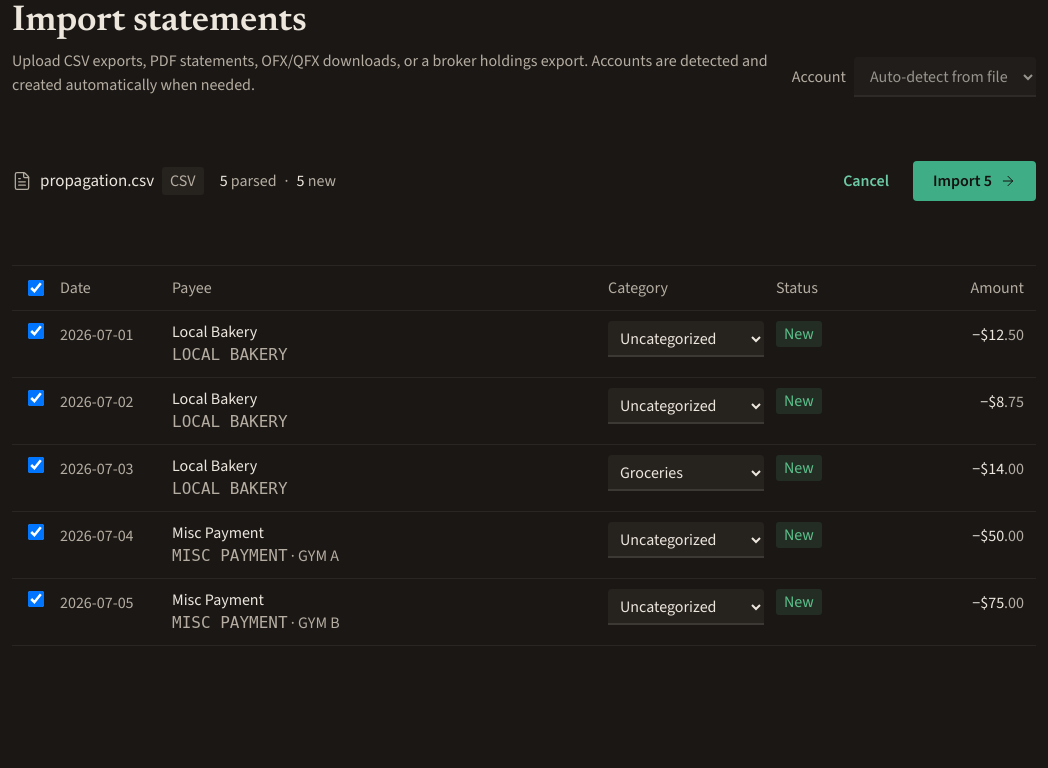
Test: IngestionWorkspace Auto-Account Creation › propagates a manual category change to identical uncategorized rows without clobbering generic payees or categorized rows
The width and height of the screenshot is (1048, 768).
Earlier steps of the test are not shown.
Later steps or results of the test are not shown.
Step 1. Select "Restaurants" in the dropdown named "Category" in the row of "−$12" → point(686, 339), box x1=608 y1=321 x2=764 y2=357
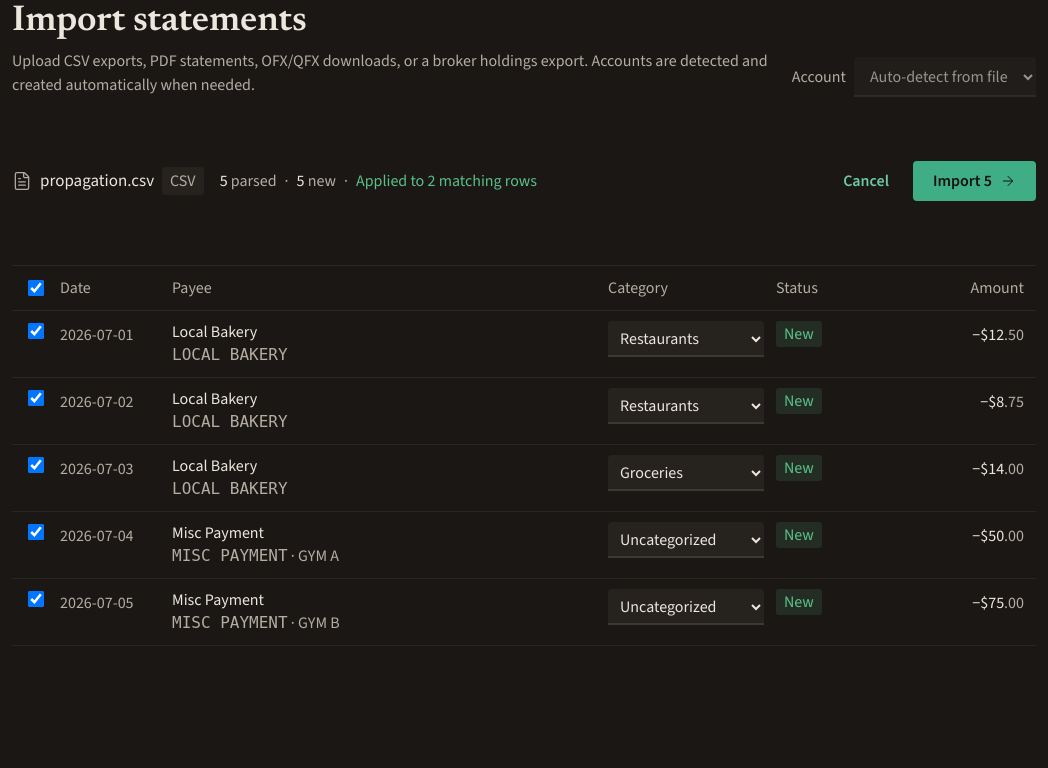
Check: the dropdown named "Category" in the row of "−$14" shows "Groceries", box x1=608 y1=455 x2=764 y2=491
Check: the dropdown named "Category" in the row of "−$8" shows "Restaurants", box x1=608 y1=388 x2=764 y2=424
Check: the text "Applied to 2 matching rows" is shown, box x1=356 y1=169 x2=537 y2=193
